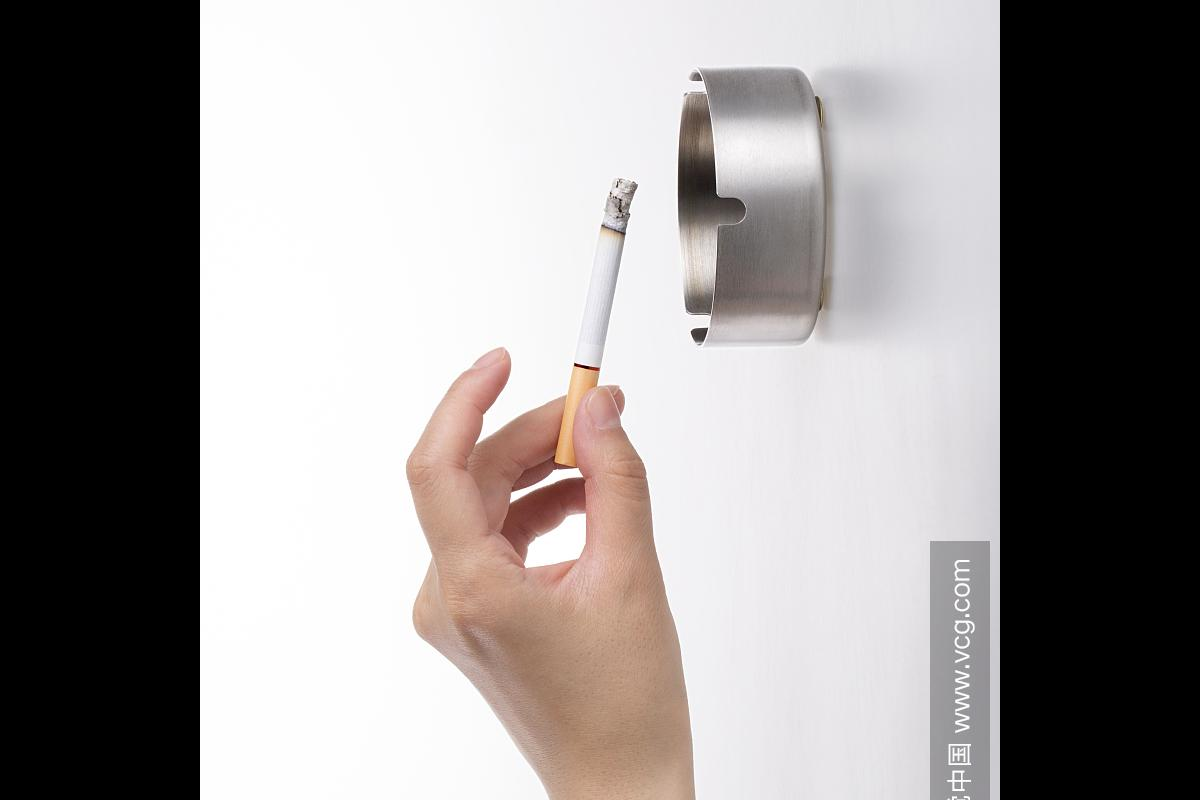Cigarette: (548, 176, 638, 472)
